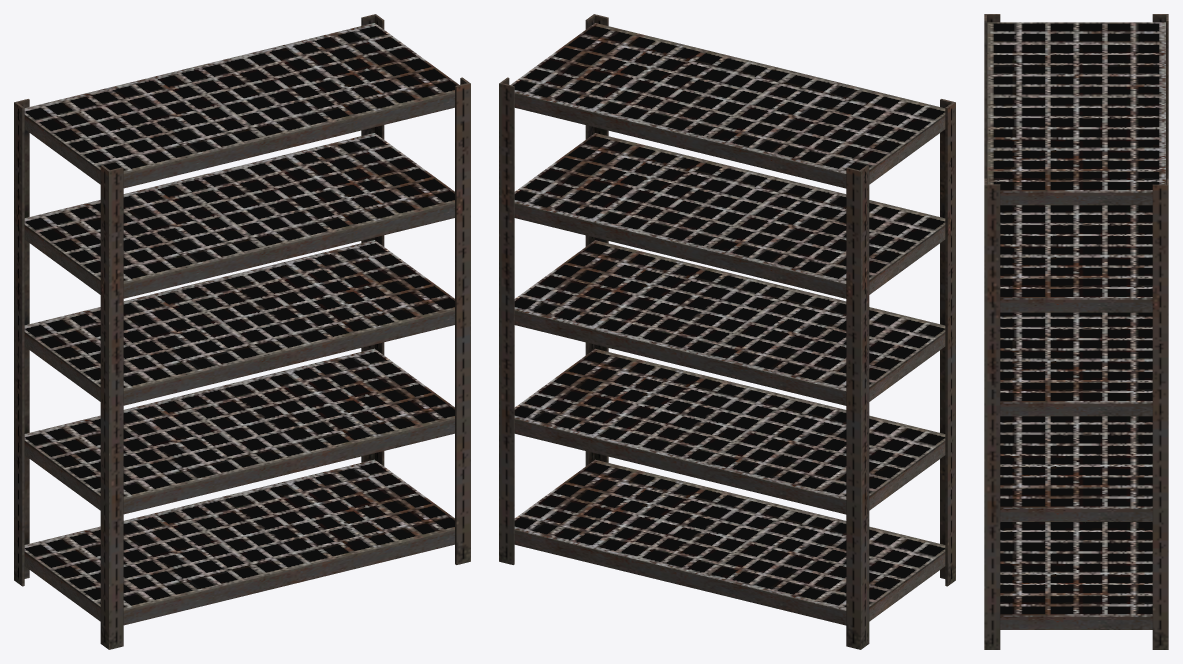
Rendered from 091_StellRack.fbx.
The picture shows the model from 3 angles, left to right: view 1: azimuth 30°, elevation 25°; view 2: azimuth 150°, elevation 25°; view 3: azimuth 270°, elevation 25°; orthographic projection. The views are drawn at different scales.
Visible parts, largest first — view 1: LOD_1_Group_0_Sub_1__sm30_091_Steelrack01A_A_Mat; view 2: LOD_1_Group_0_Sub_1__sm30_091_Steelrack01A_A_Mat; view 3: LOD_1_Group_0_Sub_1__sm30_091_Steelrack01A_A_Mat.
Boxes of the visible parts, left/top/right/bottom form: LOD_1_Group_0_Sub_1__sm30_091_Steelrack01A_A_Mat: left=14, top=14, right=470, bottom=649; LOD_1_Group_0_Sub_1__sm30_091_Steelrack01A_A_Mat: left=499, top=14, right=955, bottom=649; LOD_1_Group_0_Sub_1__sm30_091_Steelrack01A_A_Mat: left=984, top=14, right=1168, bottom=649.
Size of the model in its own units: 0.9654 by 1.22 by 0.439.
